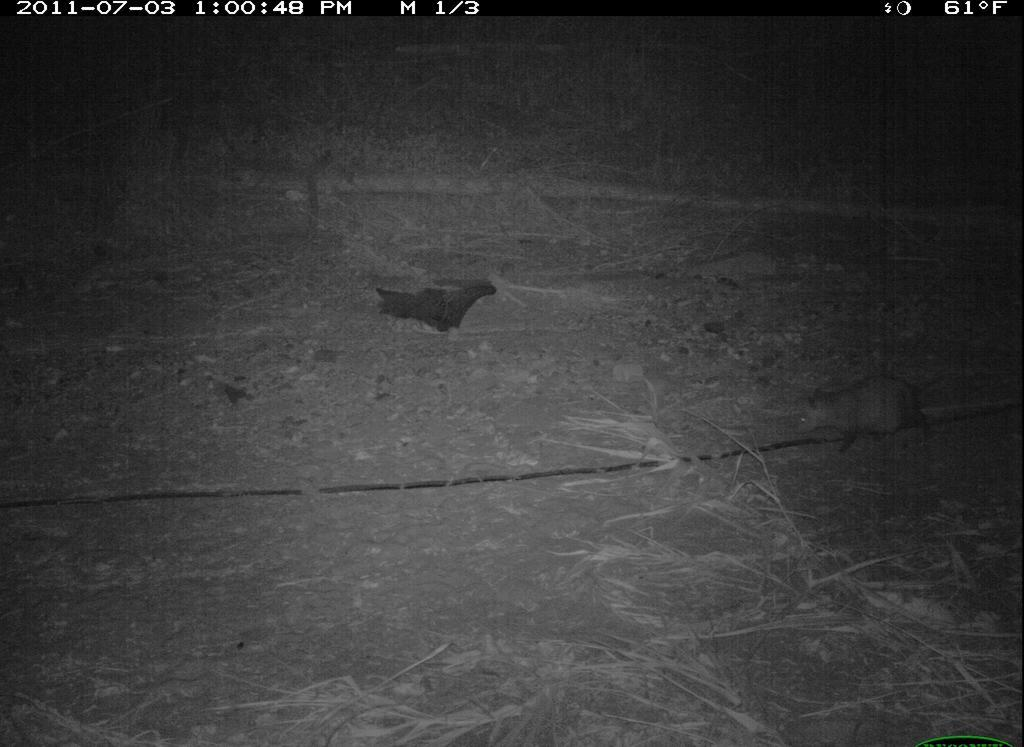opossum: (771, 367, 962, 474)
